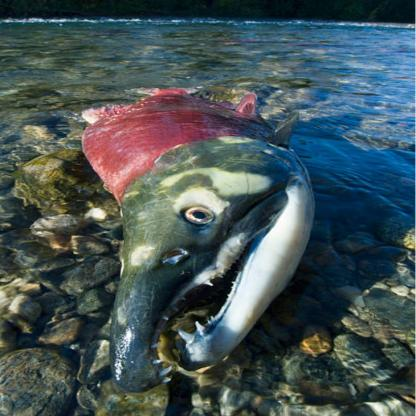sockeye: (57, 74, 318, 385)
